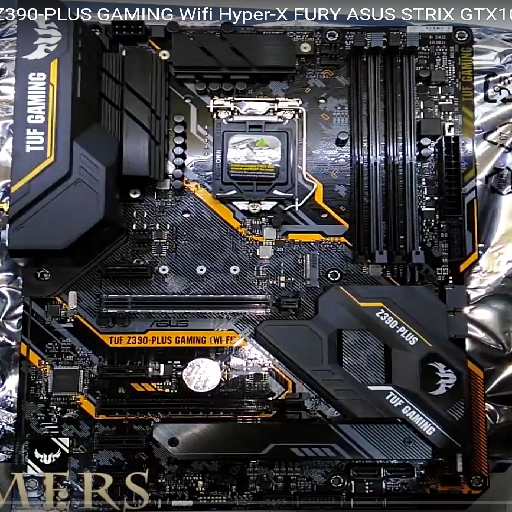CPU: (211, 97, 295, 213)
GPU: (96, 391, 313, 420), (100, 293, 305, 318)
RAM: (349, 32, 422, 267)
SSD: (302, 251, 320, 288)
